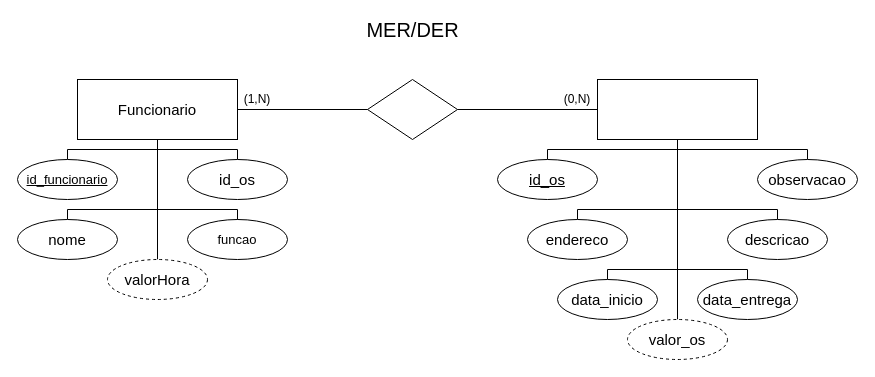
This 875x377 diagram has some shape labels left out. Each missing label, with the box of its shape:
Ordem_de_Servico: (596, 78, 758, 140)
Possui: (366, 78, 458, 140)
